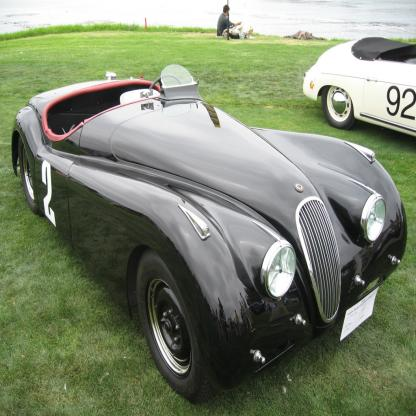Car: (12, 64, 409, 405), (304, 38, 416, 138)
